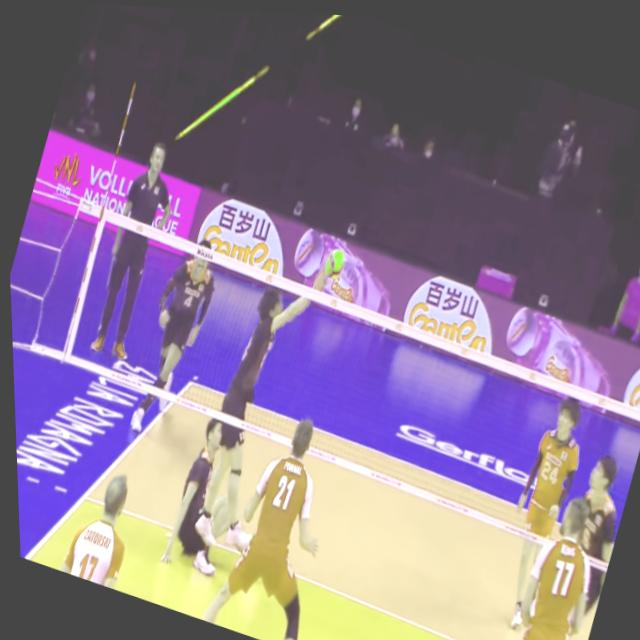player: (173, 231, 341, 560), (191, 400, 360, 640), (476, 389, 601, 640), (112, 225, 226, 443), (477, 483, 622, 640), (149, 408, 260, 586), (530, 443, 636, 624), (53, 458, 145, 590)
